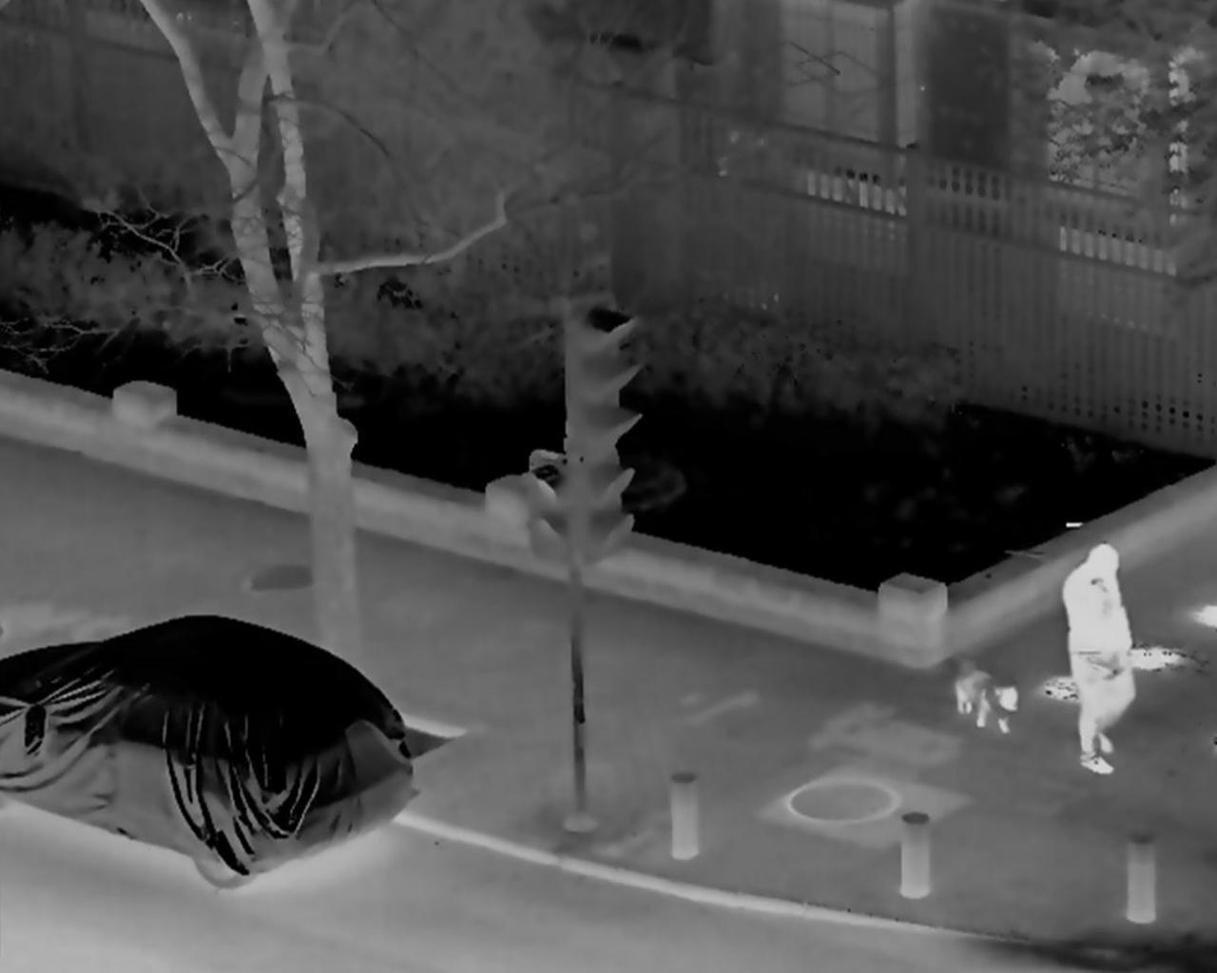person: (1059, 547, 1136, 775)
